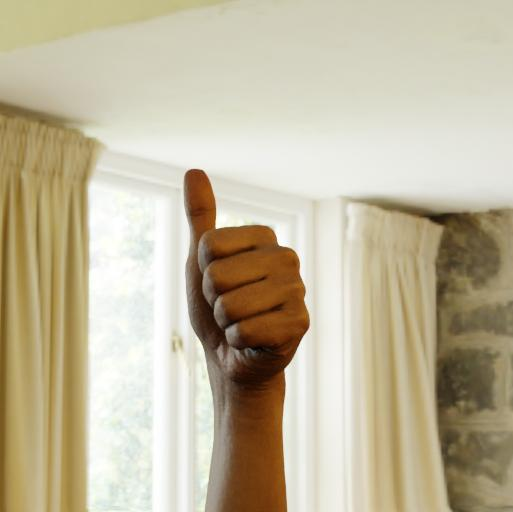thumbs-up: (180, 164, 319, 376)
